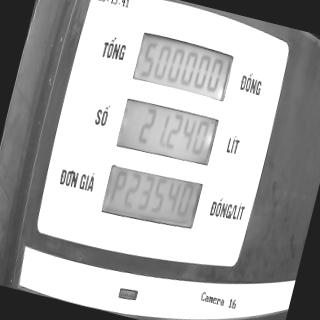screen: (95, 26, 238, 240)
